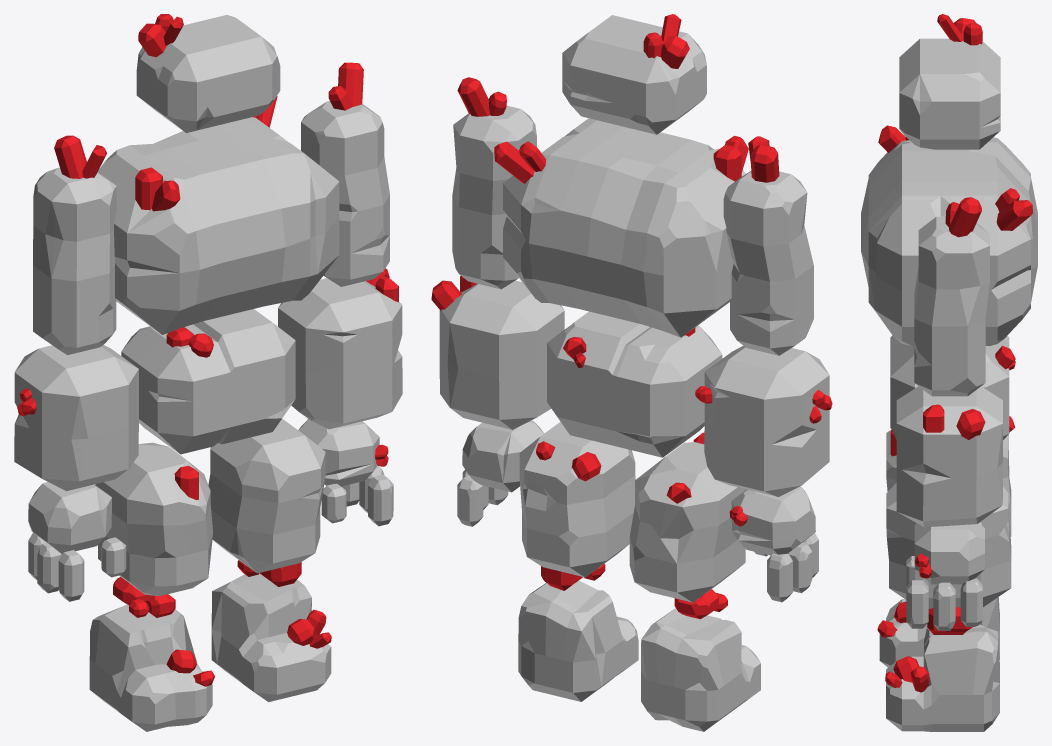
The model's file is GolemSkins.fbx.
The picture shows the model from 3 angles, left to right: view 1: azimuth 30°, elevation 25°; view 2: azimuth 150°, elevation 25°; view 3: azimuth 270°, elevation 25°; orthographic projection. The views are drawn at different scales.
Parts seen in each view (by area): view 1: Ruby_Chest, Ruby_Lower_Body, Ruby_R_Forearm, Ruby_R_Shoulder, Ruby_L_Forearm, Ruby_L_Hip, Ruby_Head, Ruby_R_Hip, Ruby_L_Shoulder, Ruby_L_Foot, Ruby_R_Foot, Ruby_R_Hand (+3 smaller); view 2: Ruby_Chest, Ruby_Lower_Body, Ruby_R_Forearm, Ruby_L_Forearm, Ruby_R_Shoulder, Ruby_L_Hip, Ruby_R_Hip, Ruby_Head, Ruby_R_Foot, Ruby_L_Foot, Ruby_L_Shoulder, Ruby_R_Hand (+3 smaller); view 3: Ruby_Chest, Ruby_L_Forearm, Ruby_L_Shoulder, Ruby_Head, Ruby_L_Foot, Ruby_L_Hand, Ruby_L_Hip, Ruby_Lower_Body, Ruby_R_Foot, Ruby_R_Hip, Ruby_L_Knee.
Part boxes in pixels (box(x1,y1,x2,y2)): Ruby_Chest: box(98, 96, 339, 334); Ruby_Lower_Body: box(121, 309, 295, 454); Ruby_R_Forearm: box(14, 345, 138, 491); Ruby_R_Shoulder: box(33, 135, 116, 355); Ruby_L_Forearm: box(278, 268, 402, 429); Ruby_L_Hip: box(208, 418, 325, 573); Ruby_Head: box(136, 14, 280, 132); Ruby_R_Hip: box(95, 442, 213, 595); Ruby_L_Shoulder: box(301, 62, 389, 286); Ruby_L_Foot: box(211, 573, 331, 702); Ruby_R_Foot: box(89, 604, 214, 731); Ruby_R_Hand: box(28, 482, 126, 601); Ruby_Chest: box(494, 118, 748, 337); Ruby_Lower_Body: box(547, 311, 722, 457); Ruby_R_Forearm: box(695, 346, 832, 496); Ruby_L_Forearm: box(431, 276, 564, 429); Ruby_R_Shoulder: box(723, 136, 813, 355); Ruby_L_Hip: box(519, 422, 635, 577); Ruby_R_Hip: box(629, 432, 746, 602); Ruby_Head: box(562, 14, 706, 134); Ruby_R_Foot: box(641, 608, 760, 731); Ruby_L_Foot: box(518, 580, 638, 701); Ruby_L_Shoulder: box(452, 77, 536, 289); Ruby_R_Hand: box(729, 486, 818, 602); Ruby_Chest: box(861, 125, 1037, 345); Ruby_L_Forearm: box(896, 386, 1002, 527); Ruby_L_Shoulder: box(914, 197, 989, 396); Ruby_Head: box(899, 14, 1000, 149); Ruby_L_Foot: box(885, 624, 999, 731); Ruby_L_Hand: box(906, 522, 984, 630); Ruby_L_Hip: box(886, 483, 1011, 608); Ruby_Lower_Body: box(890, 335, 1015, 439); Ruby_R_Foot: box(877, 597, 999, 667); Ruby_R_Hip: box(886, 416, 1015, 536); Ruby_L_Knee: box(927, 607, 972, 634).
Bounding box in the file's own units: 17.75 × 30.49 × 7.39.
1 material, 1 textured.
